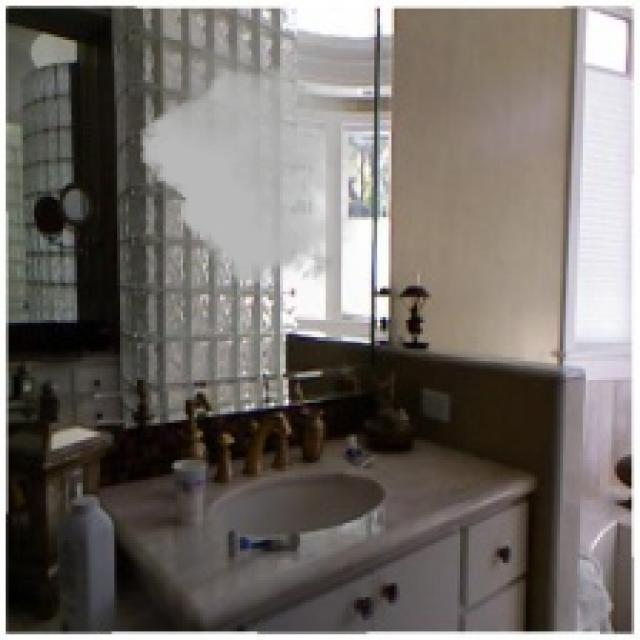smoke: (140, 37, 357, 289)
